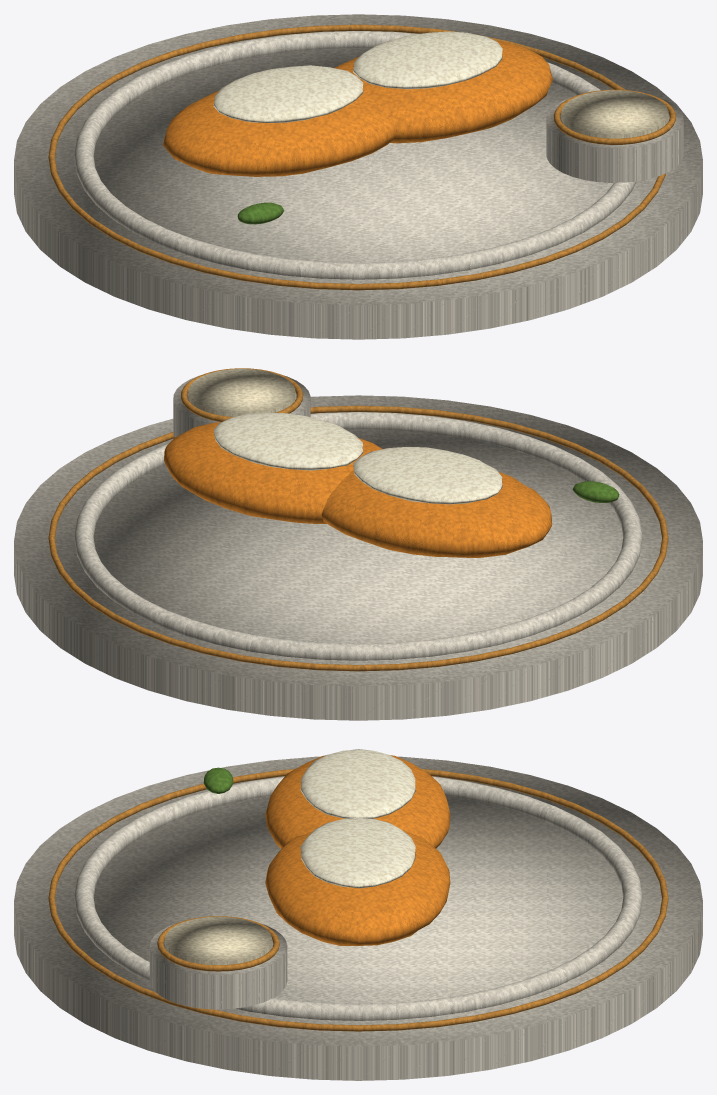
File: aborrajados-sin-freir.glb
3 views of the same model, one above another, from view 1: azimuth 30°, elevation 25°; view 2: azimuth 150°, elevation 25°; view 3: azimuth 270°, elevation 25° (orthographic).
Parts seen in each view (by area): view 1: porcelain, plantain, mozzarella, gold, suero, leafLight; view 2: porcelain, plantain, mozzarella, gold, suero, leafLight; view 3: porcelain, plantain, mozzarella, gold, suero, leafLight.
Boxes of the visible parts, left/top/right/bottom form: porcelain: left=14, top=14, right=702, bottom=339; plantain: left=163, top=40, right=552, bottom=176; mozzarella: left=213, top=31, right=502, bottom=122; gold: left=48, top=24, right=675, bottom=290; suero: left=561, top=90, right=668, bottom=138; leafLight: left=237, top=202, right=283, bottom=224; porcelain: left=14, top=375, right=702, bottom=720; plantain: left=164, top=422, right=551, bottom=557; mozzarella: left=213, top=413, right=502, bottom=504; gold: left=48, top=368, right=668, bottom=671; suero: left=188, top=369, right=295, bottom=416; leafLight: left=572, top=481, right=619, bottom=502; porcelain: left=14, top=756, right=702, bottom=1080; plantain: left=265, top=755, right=450, bottom=945; mozzarella: left=300, top=749, right=415, bottom=888; gold: left=48, top=769, right=668, bottom=1031; suero: left=164, top=916, right=272, bottom=965; leafLight: left=203, top=767, right=233, bottom=793.
Size of the model in its own units: 0.64 by 0.1296 by 0.64.
Materials: 6 (6 with a texture image).
